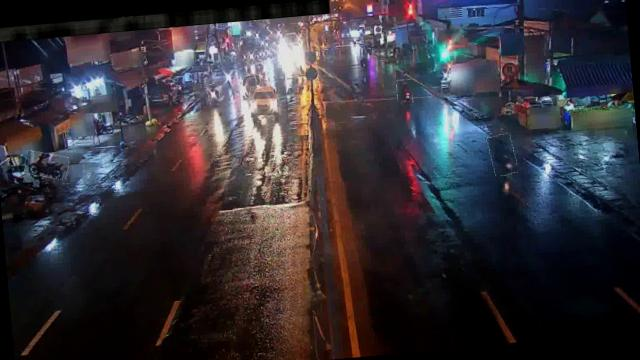Bike: (24, 150, 70, 182), (488, 134, 517, 176), (396, 80, 414, 108), (207, 84, 221, 106)
Car: (248, 86, 278, 119)
